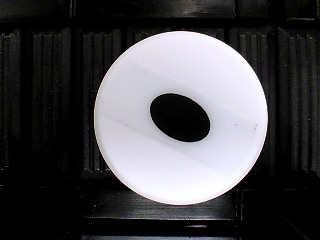BOHOEL: (93, 30, 269, 206)
